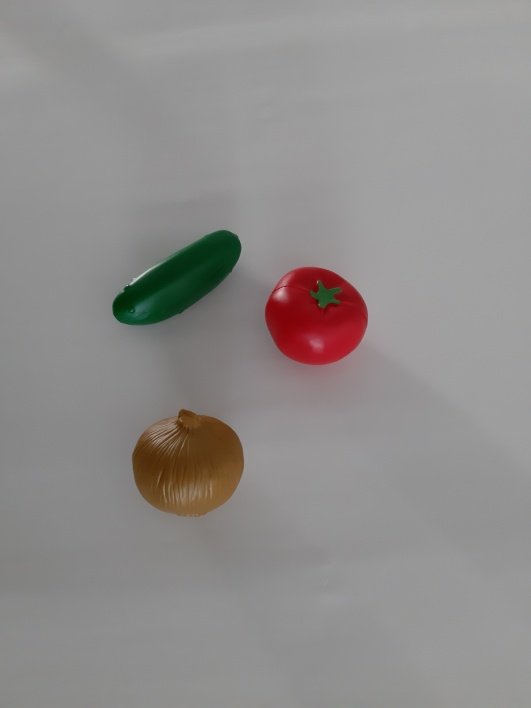cucumber: (101, 218, 261, 338)
onion: (127, 400, 252, 526)
tomato: (265, 259, 379, 378)
